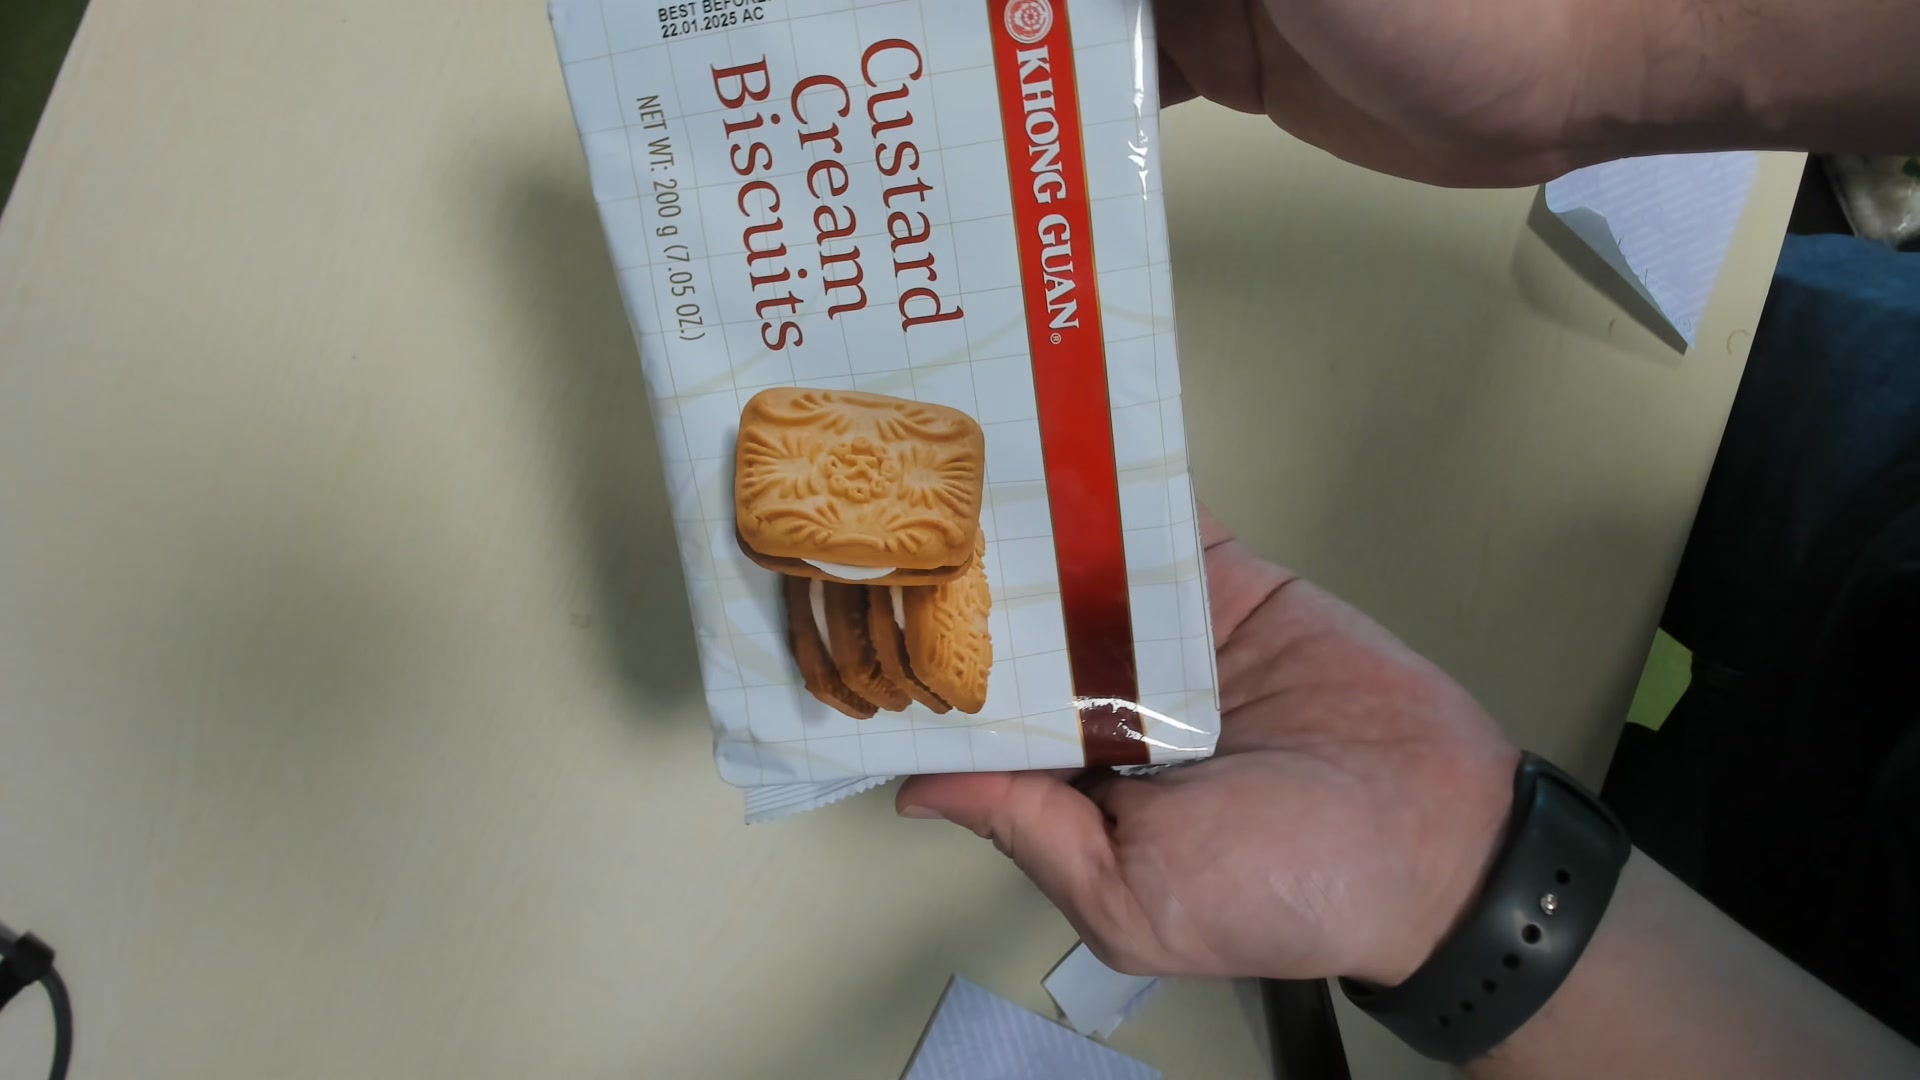BiscuitsCrackersCookies_200-299g_Halal_NonHealthy: (556, 7, 1228, 810)
